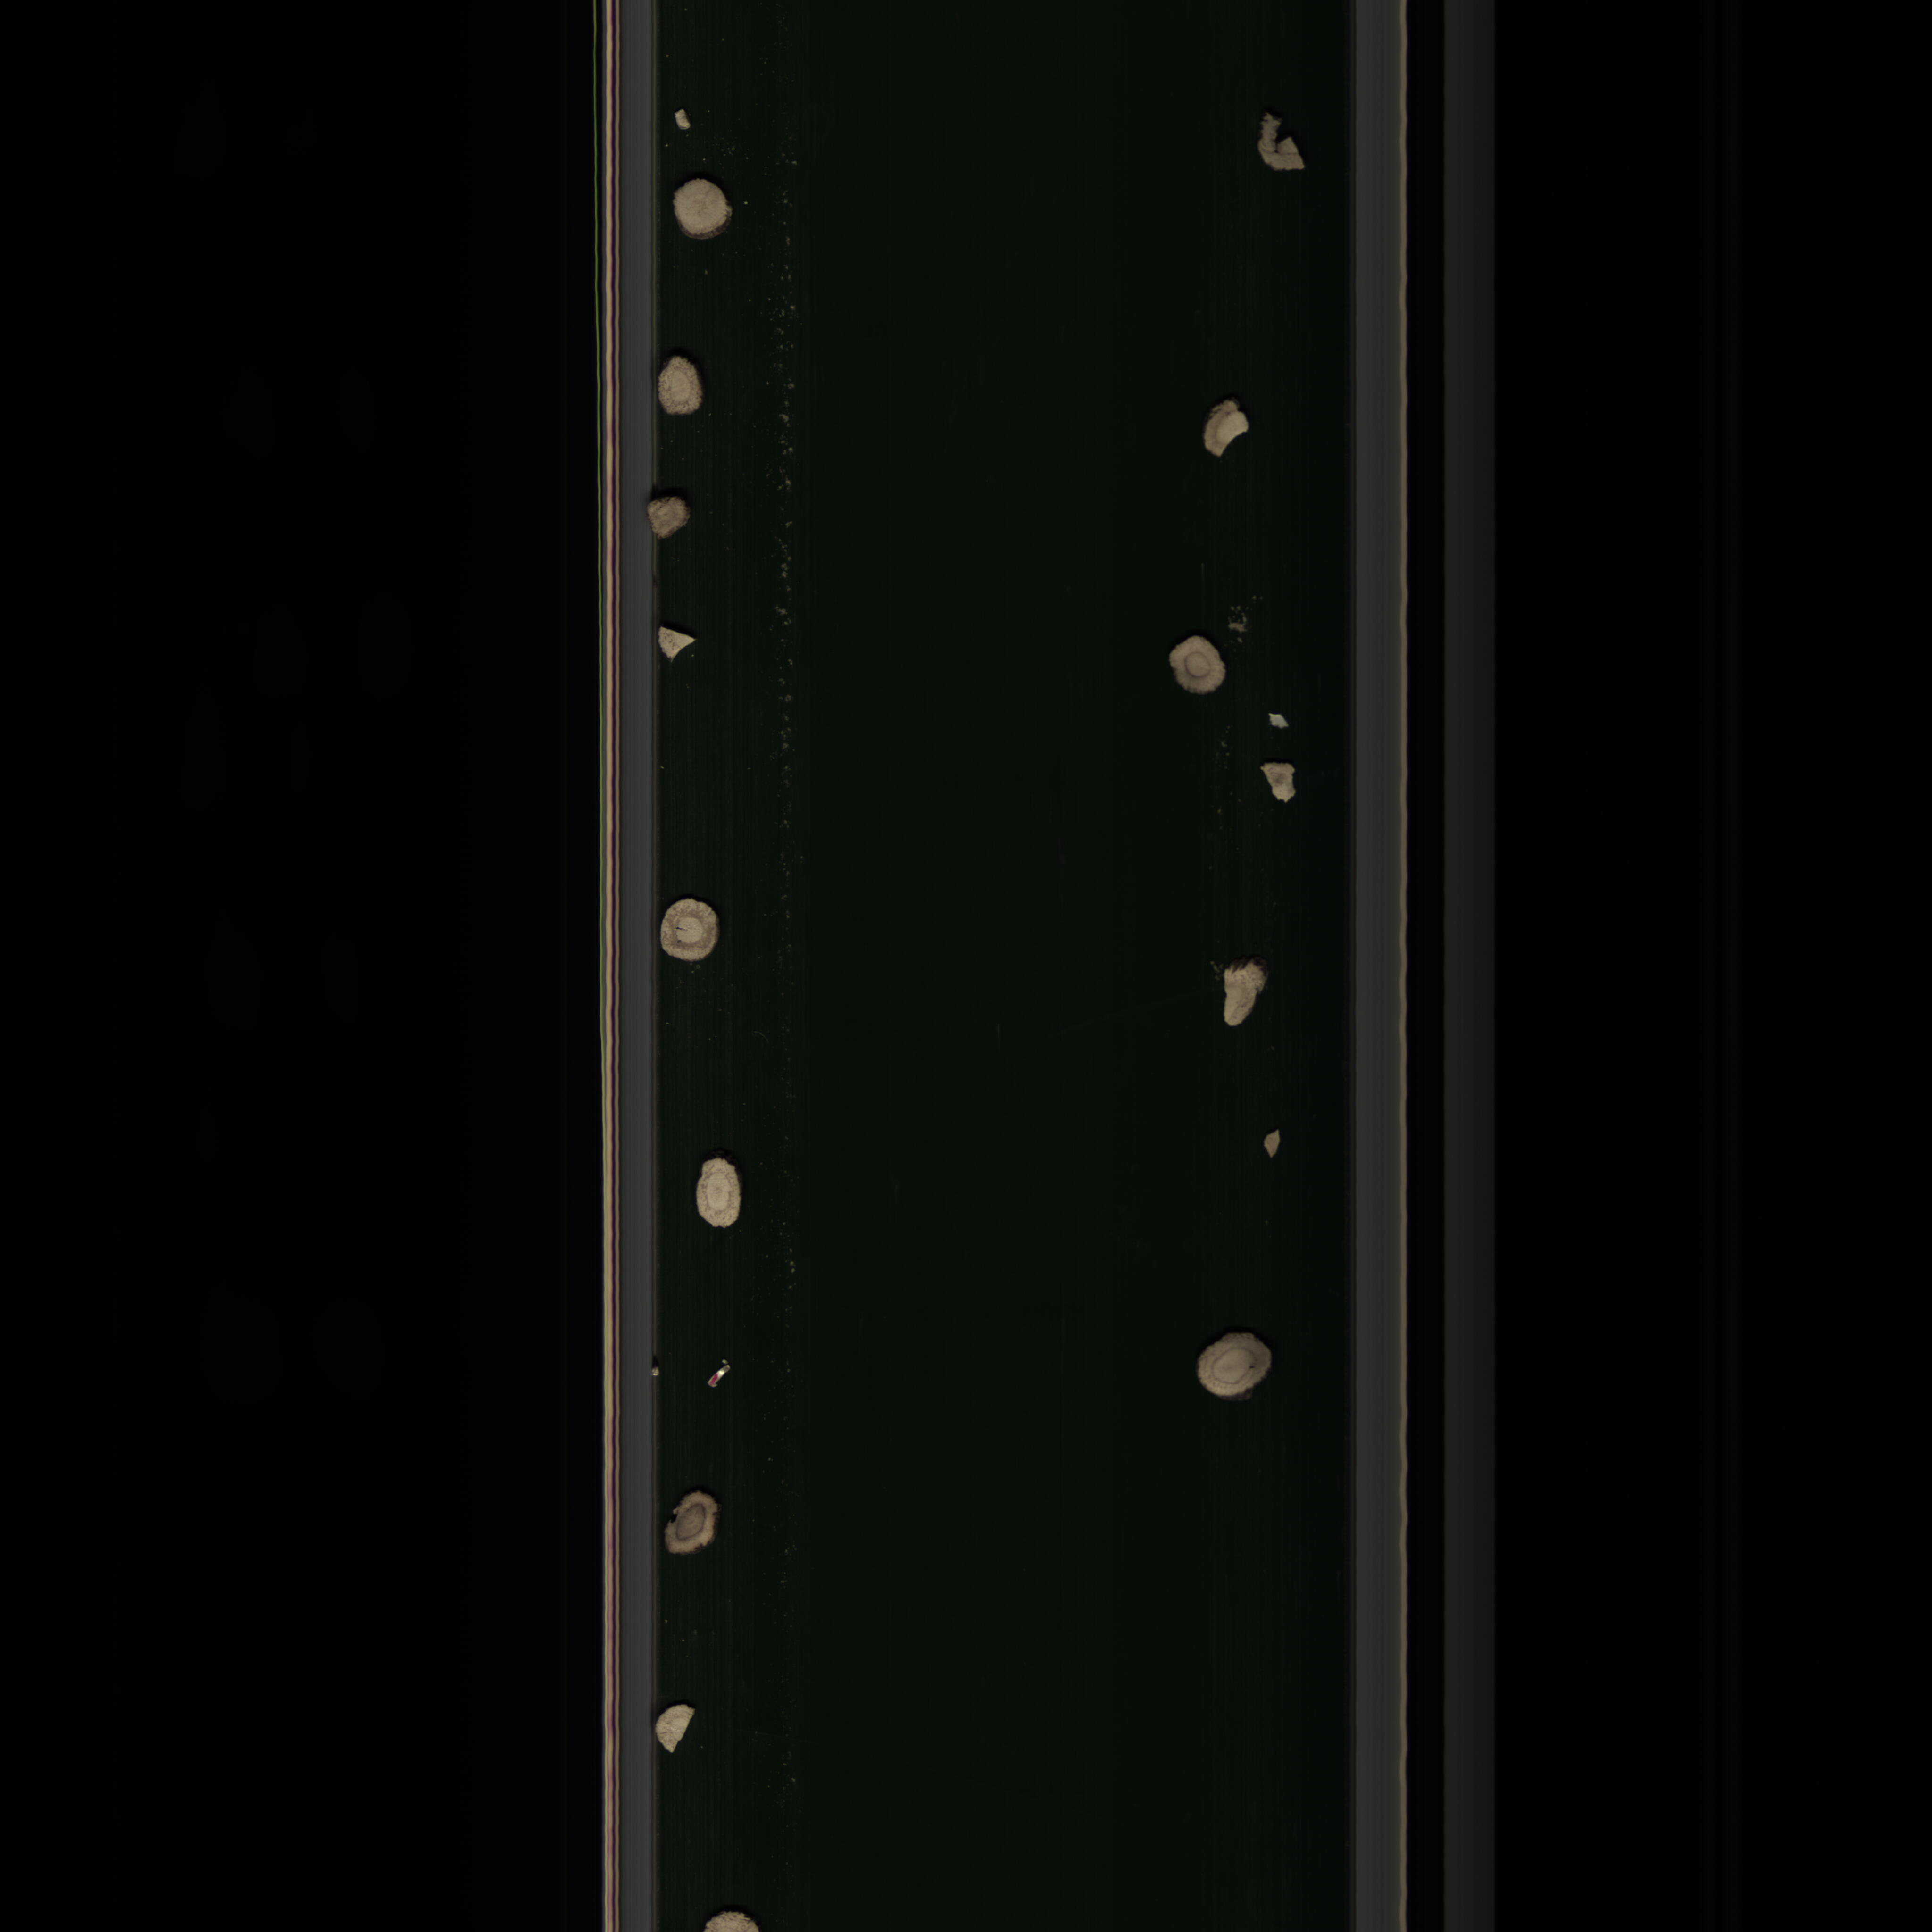debris: (1247, 106, 1318, 179), (1189, 396, 1256, 460), (1217, 954, 1267, 1039), (655, 1700, 699, 1757), (1258, 755, 1299, 809), (655, 623, 699, 662), (1254, 1123, 1288, 1162), (1260, 706, 1293, 732)
moldy: (662, 1483, 724, 1555), (639, 492, 697, 543)
